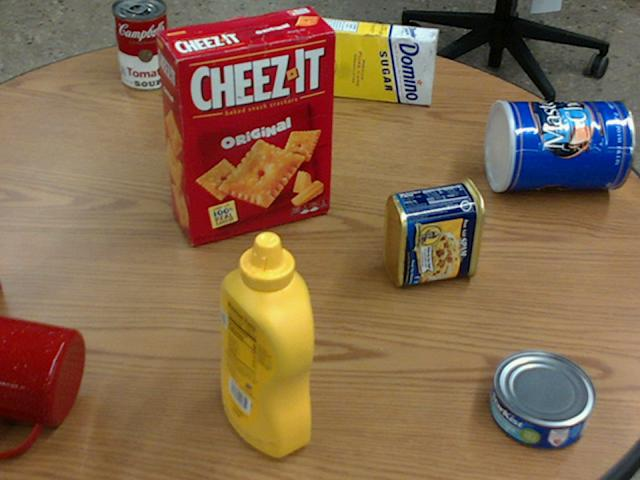cracker_box: (155, 7, 335, 244)
gelatin_box: (0, 280, 1, 288)
master_chef_can: (483, 100, 632, 190)
mug: (0, 313, 84, 454)
mustard_bottle: (220, 231, 311, 456)
potted_meat_can: (383, 177, 484, 286)
sugar_box: (300, 16, 440, 103)
tomato_soup_can: (113, 0, 171, 89)
tuna_fish_can: (488, 349, 592, 447)
